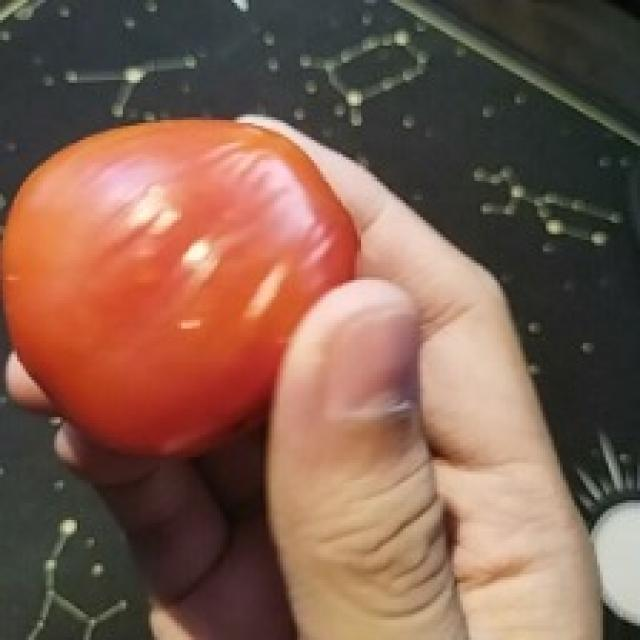Rotten Tomato: (0, 100, 377, 476)
